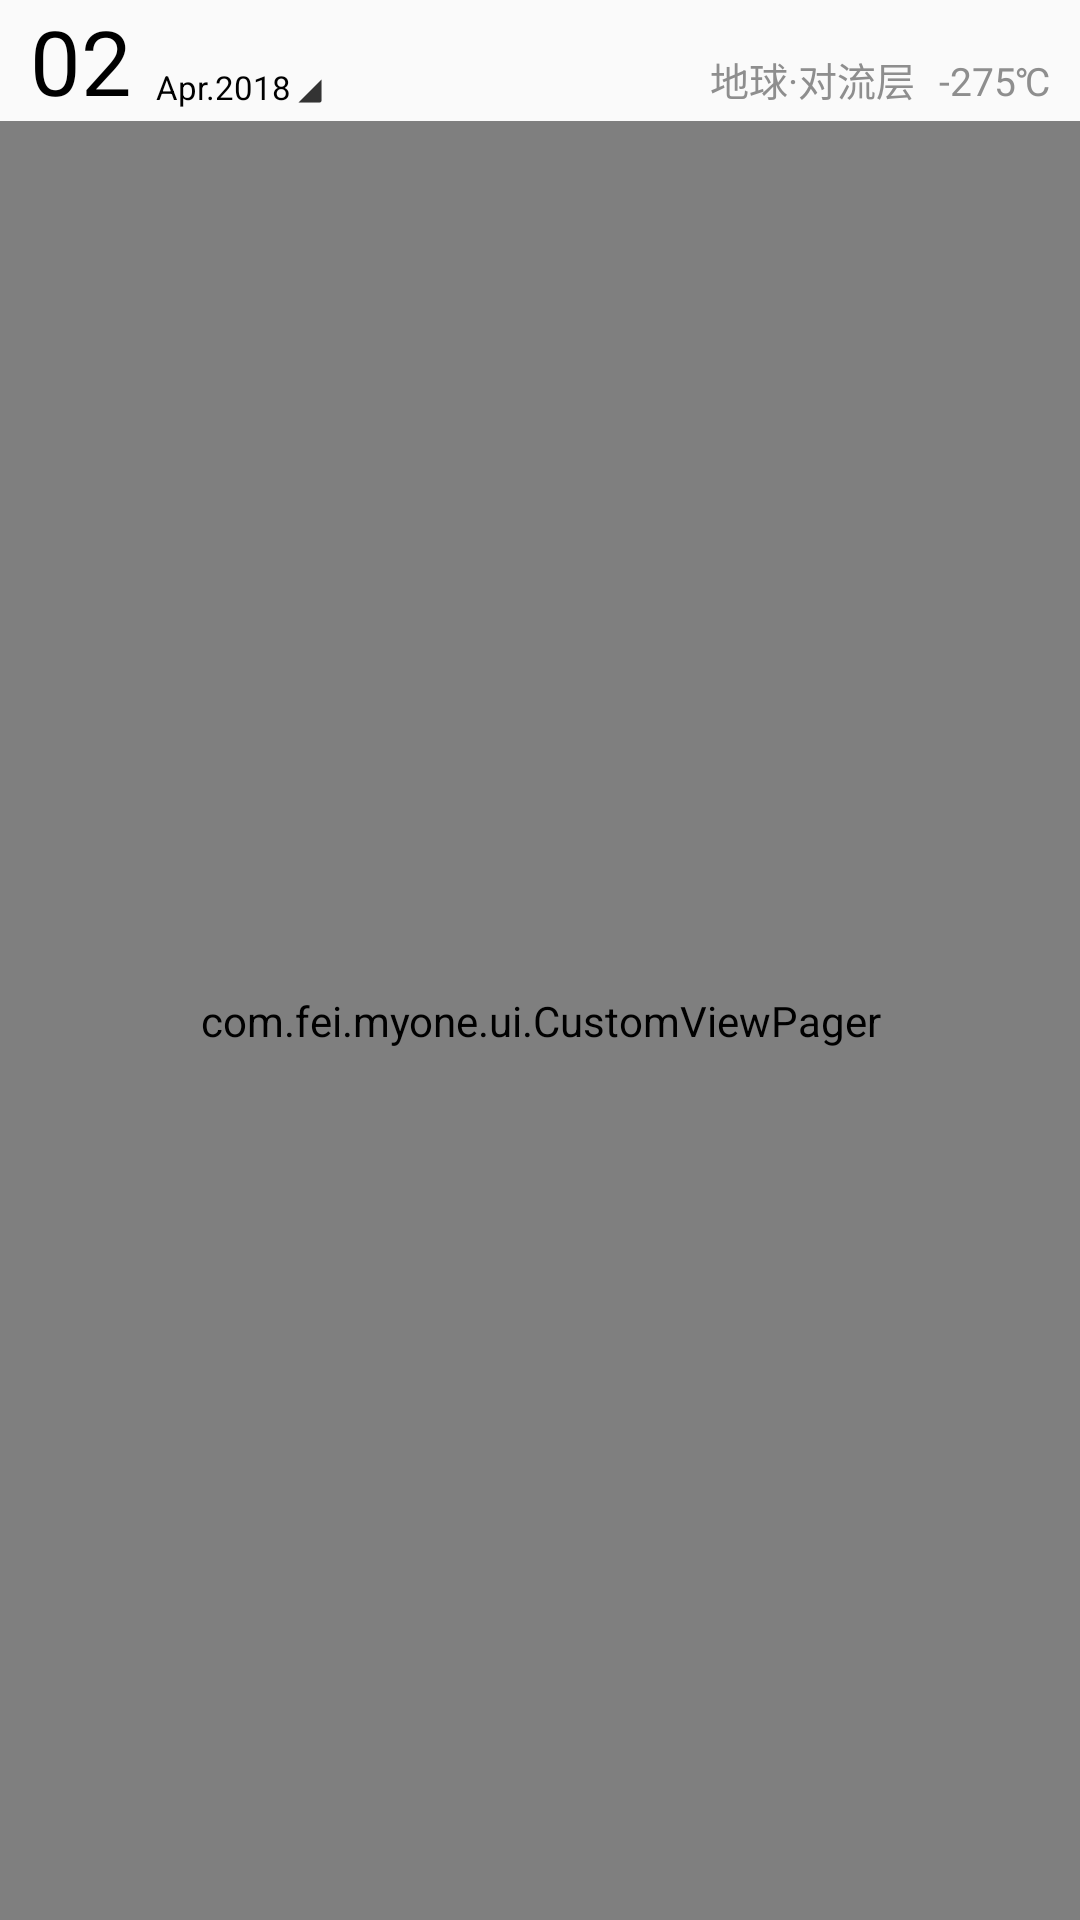

Locate icon controls on the screen. Image size 1080 x 1920, boxes as box=[x1, y1, x2, y2].
title dowm: box=[298, 79, 322, 103]
